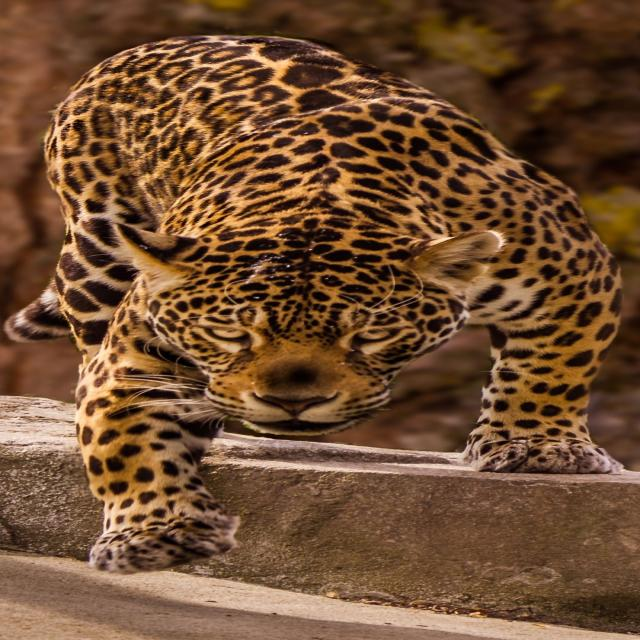Jaguar: (0, 36, 640, 576)
